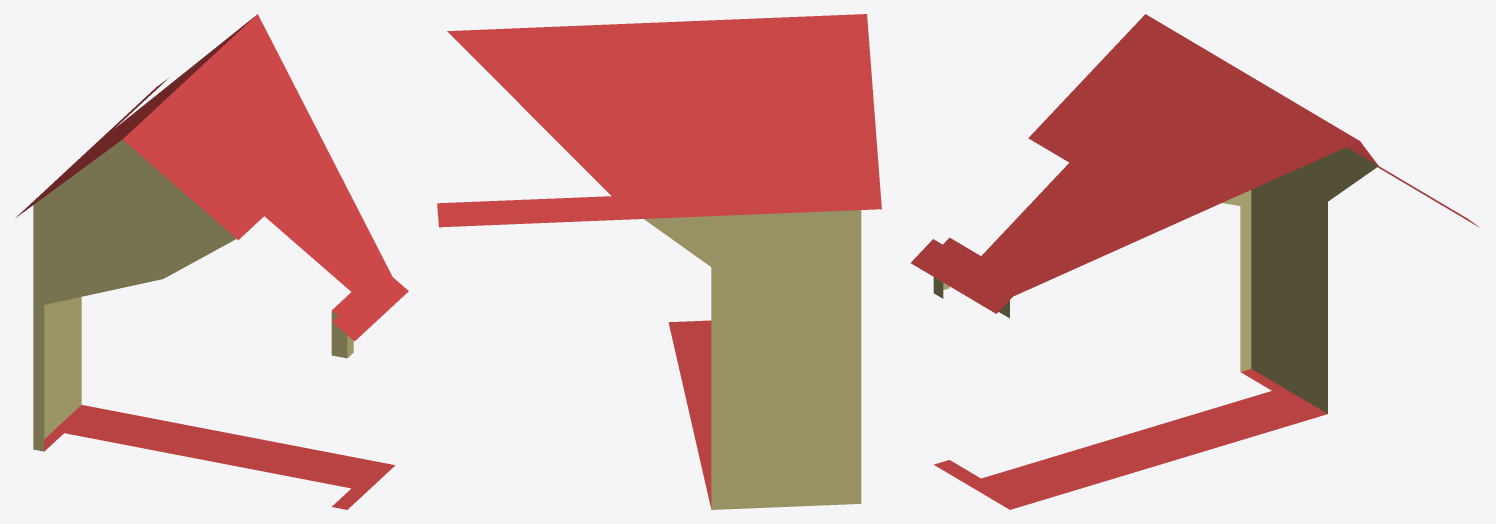
3 renders of one model, left to right at view 1: azimuth 30°, elevation 25°; view 2: azimuth 150°, elevation 25°; view 3: azimuth 270°, elevation 25°, orthographic. The views are drawn at different scales.
Size of the model in its own units: 11.43 by 17.22 by 12.58.
